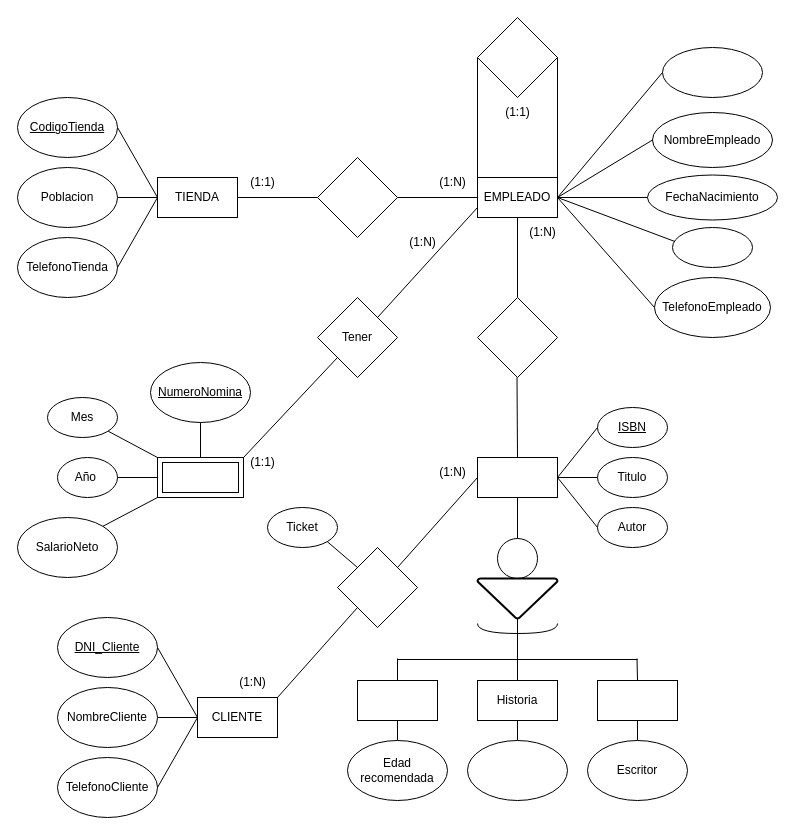
The diagram is 795 pixels wide and 835 high, and some of its shapes have lost their labels. Each missing label, with the centre of its shape:
"Bibiiografia" goes at point 637,700.
"Comprar" goes at point 377,587.
"Direccion" goes at point 712,247.
"DNI_Empleado" goes at point 712,72.
"Encargado" goes at point 517,57.
"Epoca historica" goes at point 517,770.
"Infantil" goes at point 397,700.
"LIBRO" goes at point 517,477.
"Nomina" goes at point 200,477.
"Tipo" goes at point 517,598.
"Trabajar" goes at point 357,197.
"Vender" goes at point 517,337.
